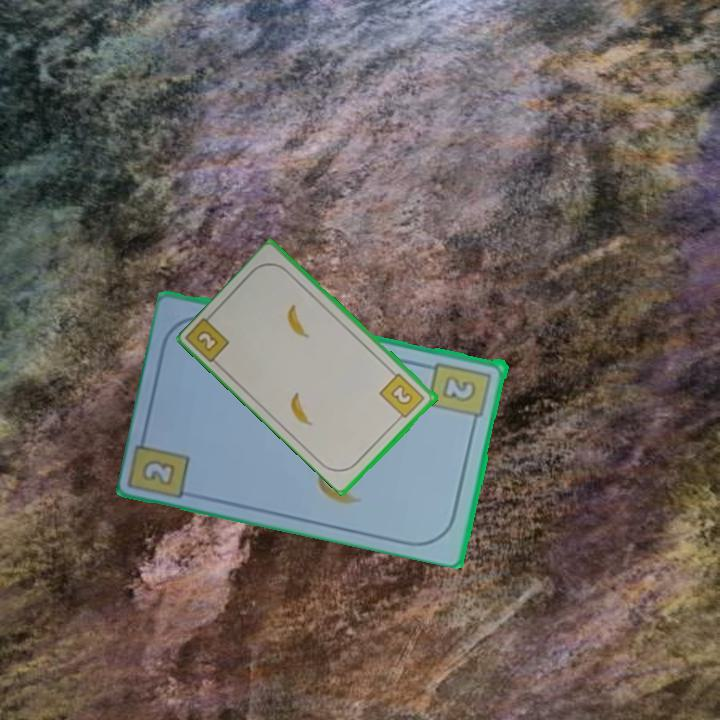2b: (426, 358, 495, 429), (376, 370, 428, 424), (138, 455, 179, 488), (193, 327, 222, 355)
